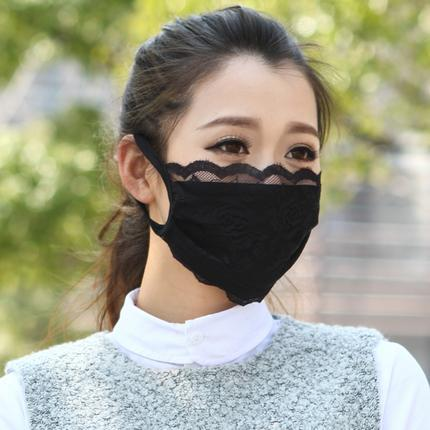OK: (137, 109, 325, 297)
